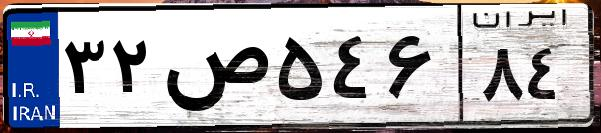2: (110, 28, 158, 98)
3: (57, 26, 110, 100)
4: (330, 28, 385, 110), (525, 38, 570, 115)
5: (270, 28, 330, 110)
6: (385, 28, 445, 110)
8: (475, 38, 525, 113)
ص: (158, 20, 270, 120)
